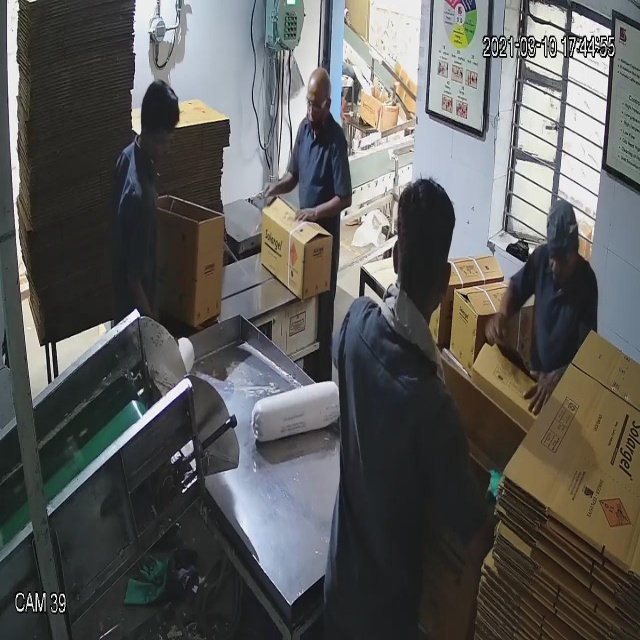Sin_guantes: (480, 265, 523, 355), (293, 189, 357, 236), (261, 165, 300, 212)
